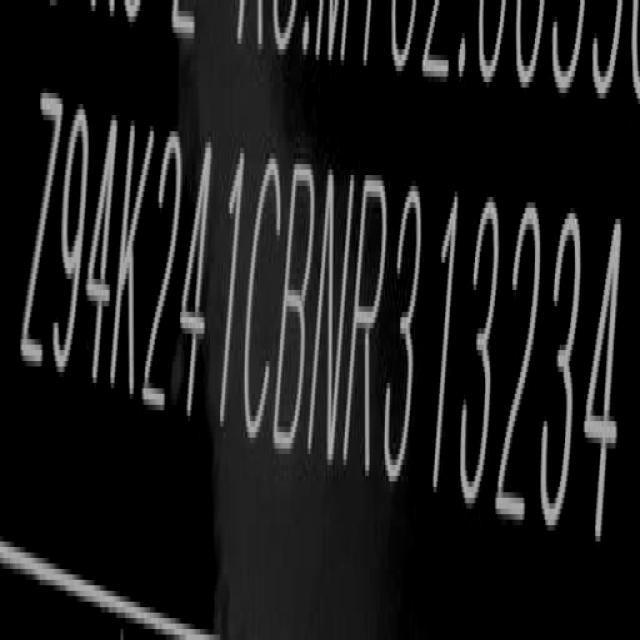1: (422, 193, 462, 507), (210, 143, 246, 441)
2: (495, 195, 550, 531), (139, 123, 184, 420)
3: (536, 213, 588, 539), (452, 196, 503, 517), (384, 182, 429, 494)
4: (580, 210, 632, 550), (176, 132, 220, 428), (82, 104, 123, 393)
9: (48, 96, 92, 394)
B: (274, 155, 322, 460)
C: (239, 154, 285, 452)
K: (110, 114, 154, 405)
N: (309, 160, 354, 470)
R: (343, 175, 391, 484)
Z: (18, 90, 62, 382)
